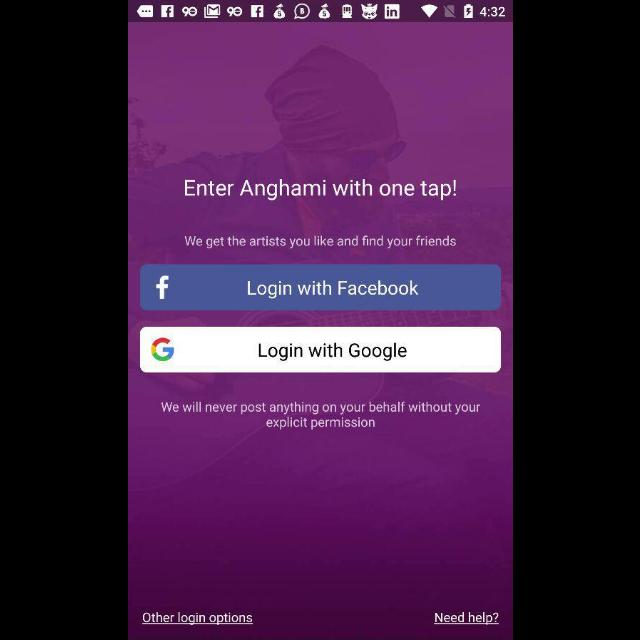backgroundimage: (128, 22, 512, 640)
text: (160, 402, 480, 431), (184, 178, 456, 202), (184, 235, 456, 249), (141, 612, 253, 626), (433, 612, 499, 626)
textbutton: (140, 327, 500, 373), (140, 264, 500, 310)
uppertaskbar: (128, 1, 512, 23)
